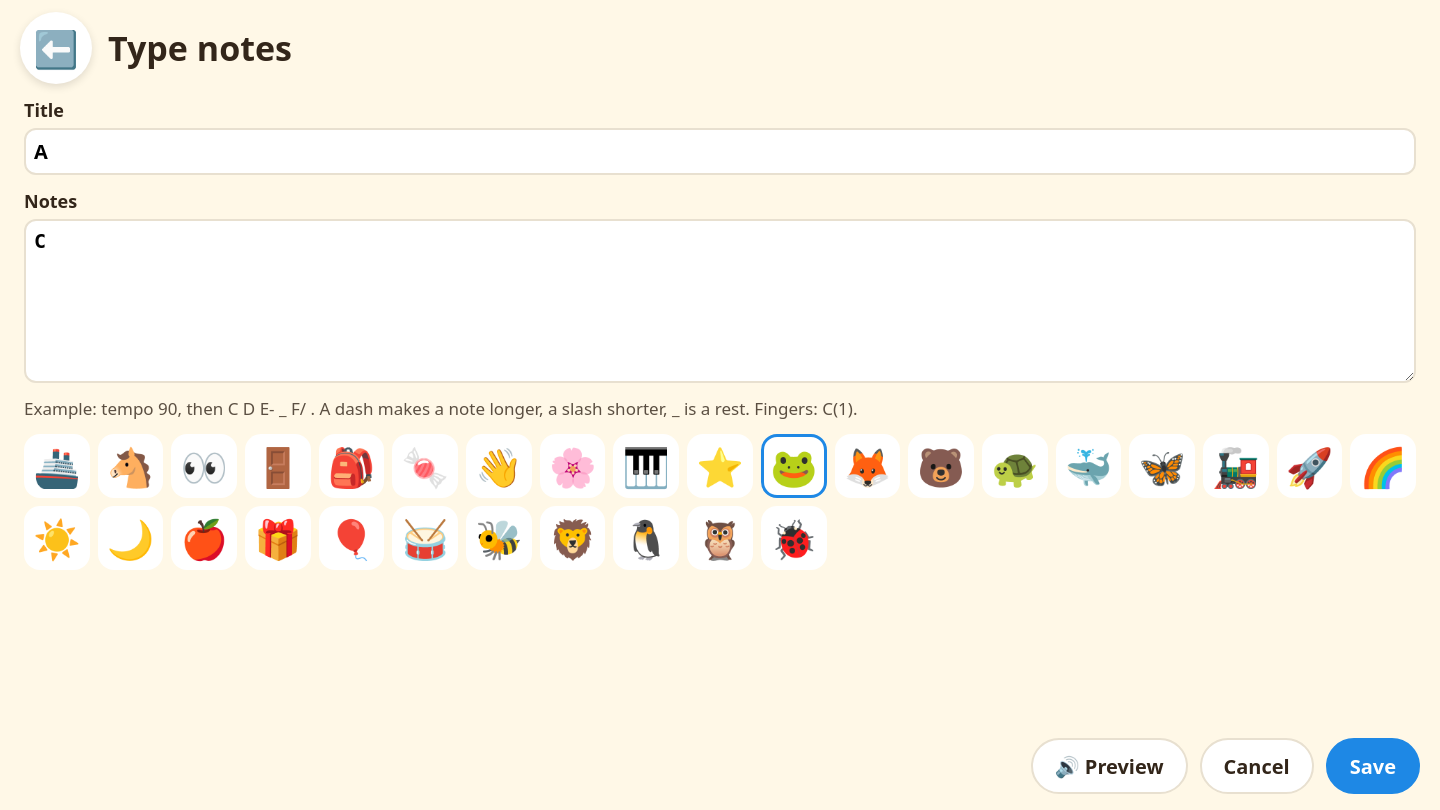
it: editor blocks save with errors
Later steps or results of the test are not shown.
Replace the text in the text box labelled "Notes" with "C, X": coordinates (720, 301) [24, 219, 1416, 383]
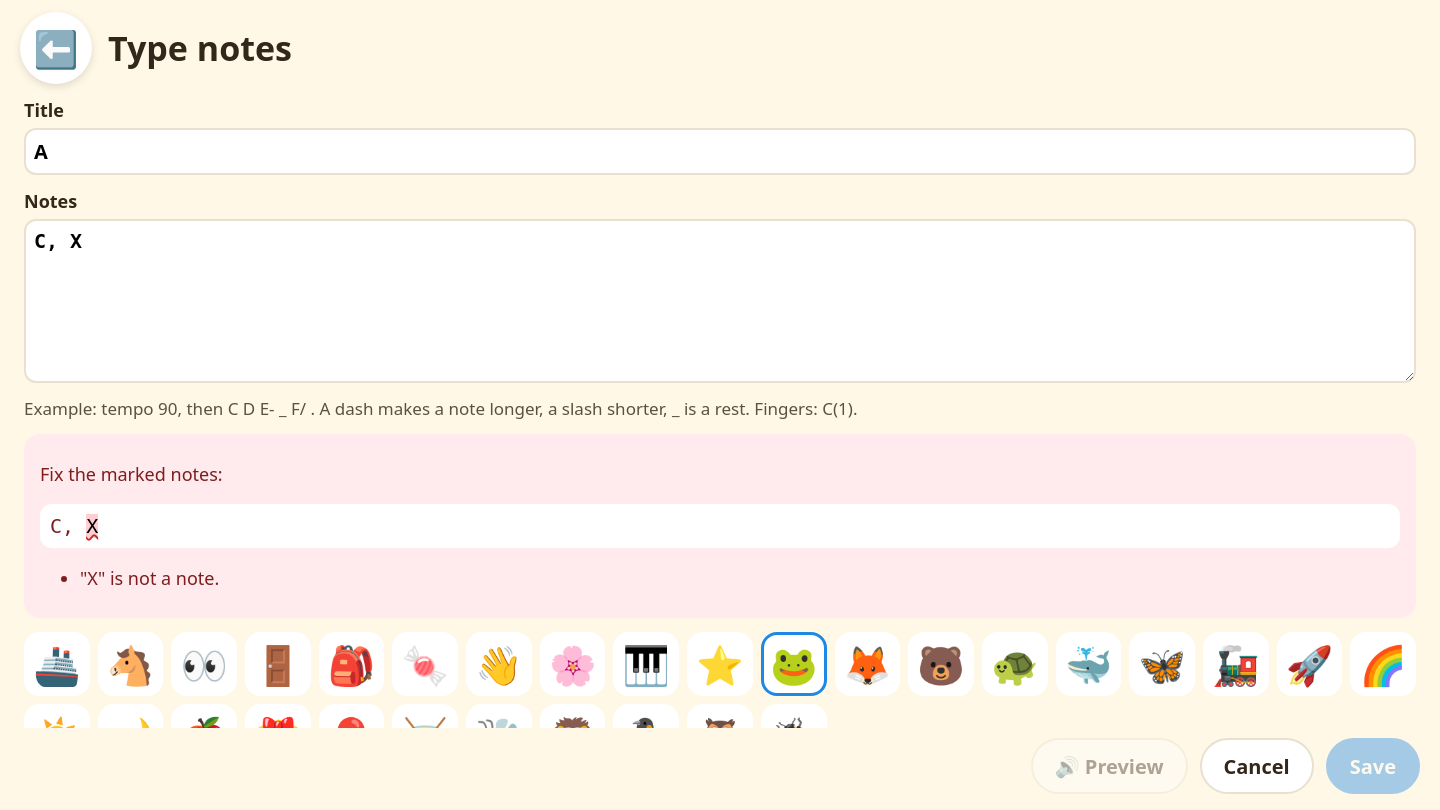
Now the list item "\"X\" is not a note." is shown, box [80, 566, 219, 590]
Now the text with test id "note-error" reads "X", box [86, 514, 98, 538]
Now the button "Save" is disabled, box [1326, 738, 1420, 794]
